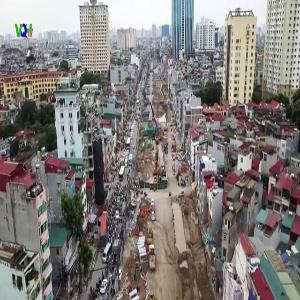drone: (4, 32, 61, 89)
